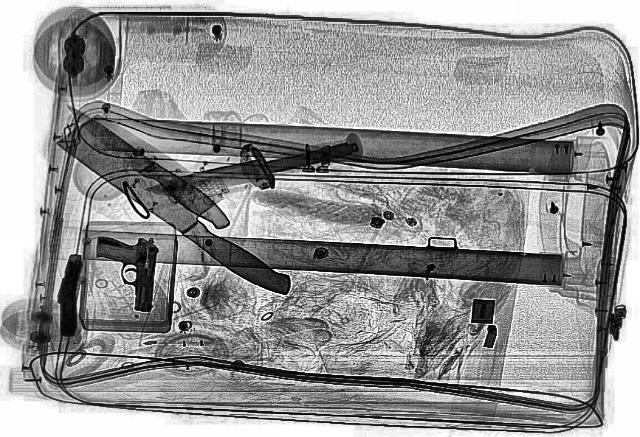Gun: (89, 234, 159, 312), (52, 254, 86, 336)
Knife: (44, 111, 333, 301), (52, 98, 240, 232), (138, 140, 360, 202)
